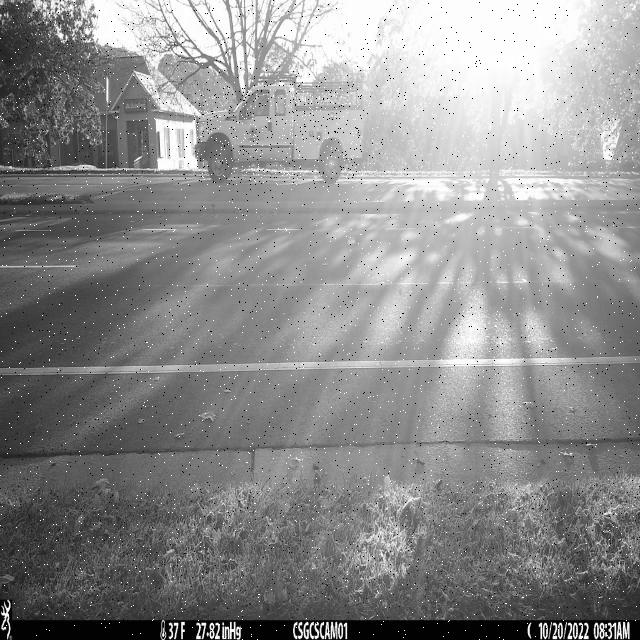Pickup- Utility: (194, 82, 362, 185)
